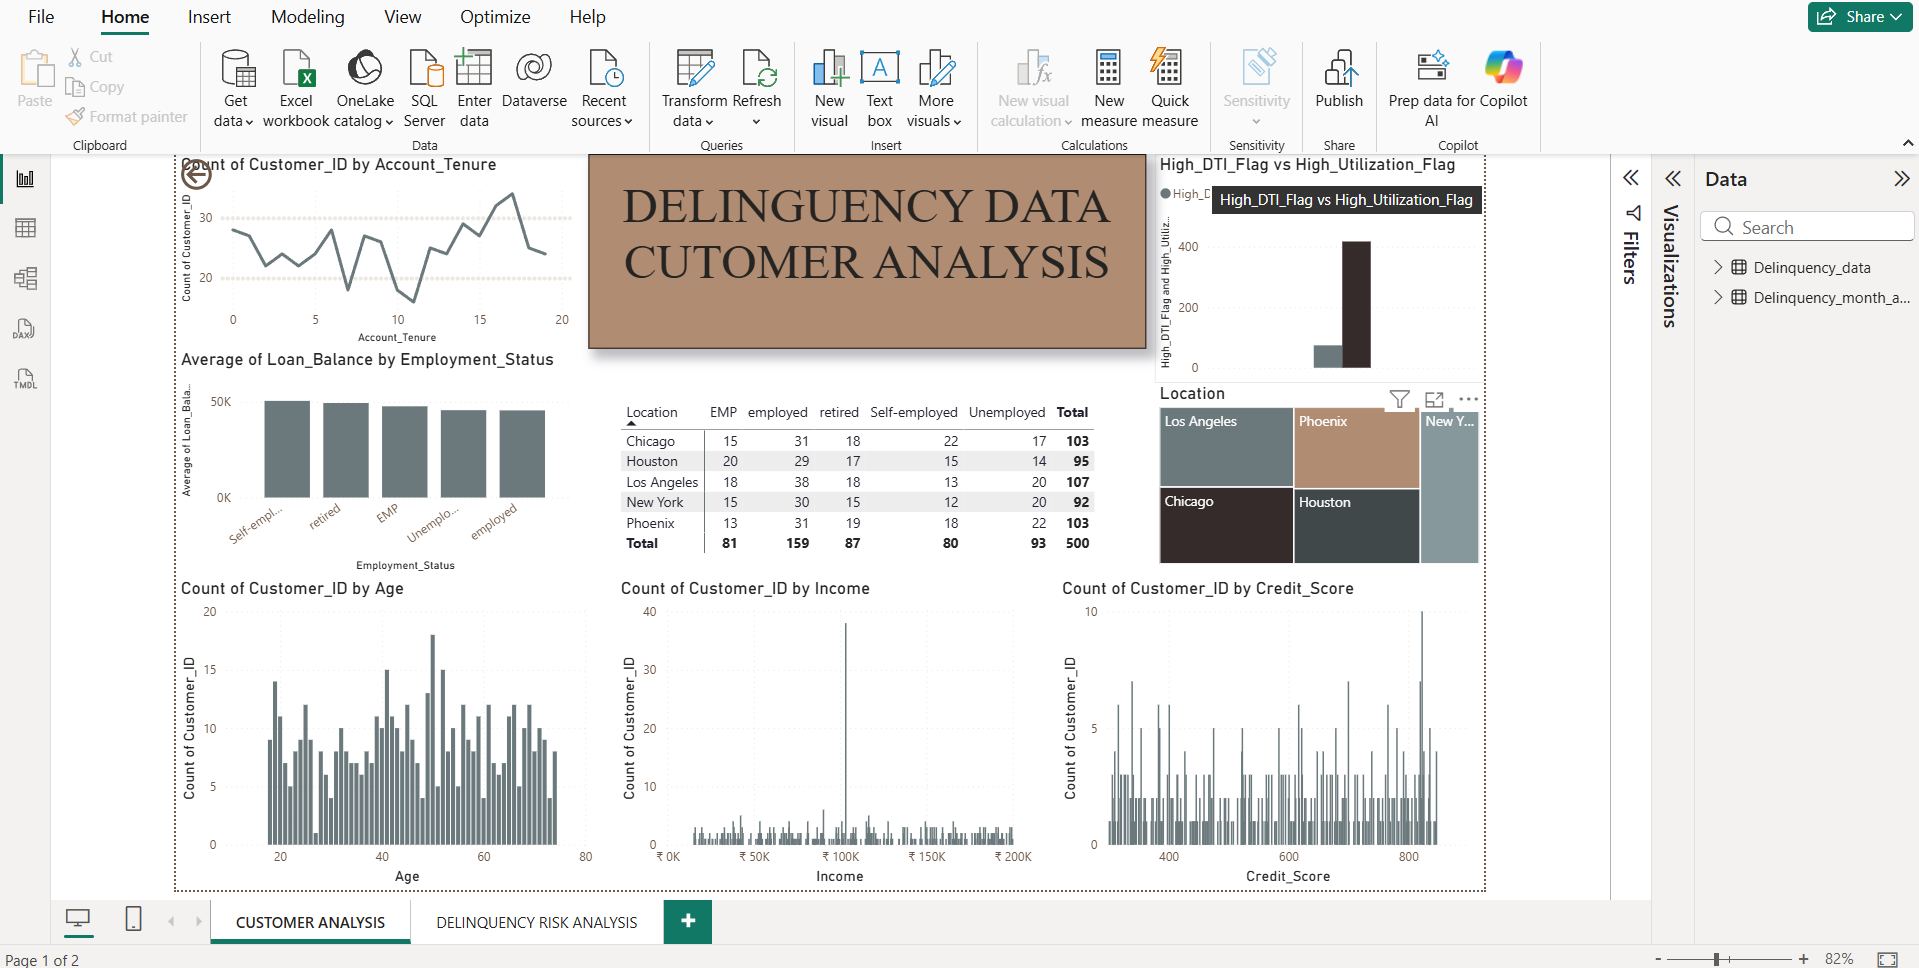

This screenshot's page, from the dashboard's own definition file:
{"tool":"powerbi","page":{"name":"CUSTOMER ANALYSIS","canvas":[1280,720],"ordinal":0},"visuals":[{"type":"columnChart","fields":{"Category":["Delinquency_data.Age"],"Y":["CountNonNull(Delinquency_data.Customer_ID)"]},"box":[0,414.3,413.1,305.2],"z":0},{"type":"columnChart","fields":{"Category":["Delinquency_data.Income"],"Y":["CountNonNull(Delinquency_data.Customer_ID)"]},"box":[430.5,414.3,413.1,305.2],"z":1000},{"type":"pivotTable","fields":{"Values":["CountNonNull(Delinquency_data.Customer_ID)"],"Columns":["Delinquency_data.Employment_Status"],"Rows":["Delinquency_data.Location"]},"box":[430.5,235.7,481.3,178.6],"z":2000},{"type":"lineChart","fields":{"Y":["CountNonNull(Delinquency_data.Customer_ID)"],"Category":["Delinquency_data.Account_Tenure"]},"box":[0,0,392.5,190.8],"z":3000},{"type":"columnChart","fields":{"Category":["Delinquency_data.Credit_Score"],"Y":["CountNonNull(Delinquency_data.Customer_ID)"]},"box":[862.2,414.3,418.1,305.2],"z":4000},{"type":"actionButton","box":[0,0,100,40],"z":5000},{"type":"treemap","title":"Location","fields":{"Group":["Delinquency_data.Location"],"Values":["CountNonNull(Delinquency_data.Location)"]},"box":[957.7,223.3,322.5,182.4],"z":6000},{"type":"clusteredColumnChart","title":"High_DTI_Flag vs High_Utilization_Flag","fields":{"Y":["Sum(Delinquency_data.High_DTI_Flag)","Sum(Delinquency_data.High_Utilization_Flag)"]},"box":[957.7,0,322.5,223.3],"z":7000},{"type":"clusteredColumnChart","fields":{"Y":["Avg(Delinquency_data.Loan_Balance)"],"Category":["Delinquency_data.Employment_Status"]},"box":[0,191,390.8,223.3],"z":8000},{"type":"textbox","box":[403.5,0,545.4,190.8],"z":9000}]}

Visuals, with their boxes on the page's 1280x720 design canvas (x1, y1, x2, y2). These are canvas units, not pixel positions in the 1919x968 screenshot, which may show the page scaled, cropped or inside an application window:
columnChart - Delinquency_data.Age x CountNonNull(Delinquency_data.Customer_ID): 0/414/413/720
columnChart - Delinquency_data.Income x CountNonNull(Delinquency_data.Customer_ID): 430/414/844/720
pivotTable - CountNonNull(Delinquency_data.Customer_ID) x Delinquency_data.Employment_Status: 430/236/912/414
lineChart - CountNonNull(Delinquency_data.Customer_ID) x Delinquency_data.Account_Tenure: 0/0/392/191
columnChart - Delinquency_data.Credit_Score x CountNonNull(Delinquency_data.Customer_ID): 862/414/1280/720
actionButton: 0/0/100/40
"Location" treemap: 958/223/1280/406
"High_DTI_Flag vs High_Utilization_Flag" clusteredColumnChart: 958/0/1280/223
clusteredColumnChart - Avg(Delinquency_data.Loan_Balance) x Delinquency_data.Employment_Status: 0/191/391/414
textbox: 404/0/949/191
